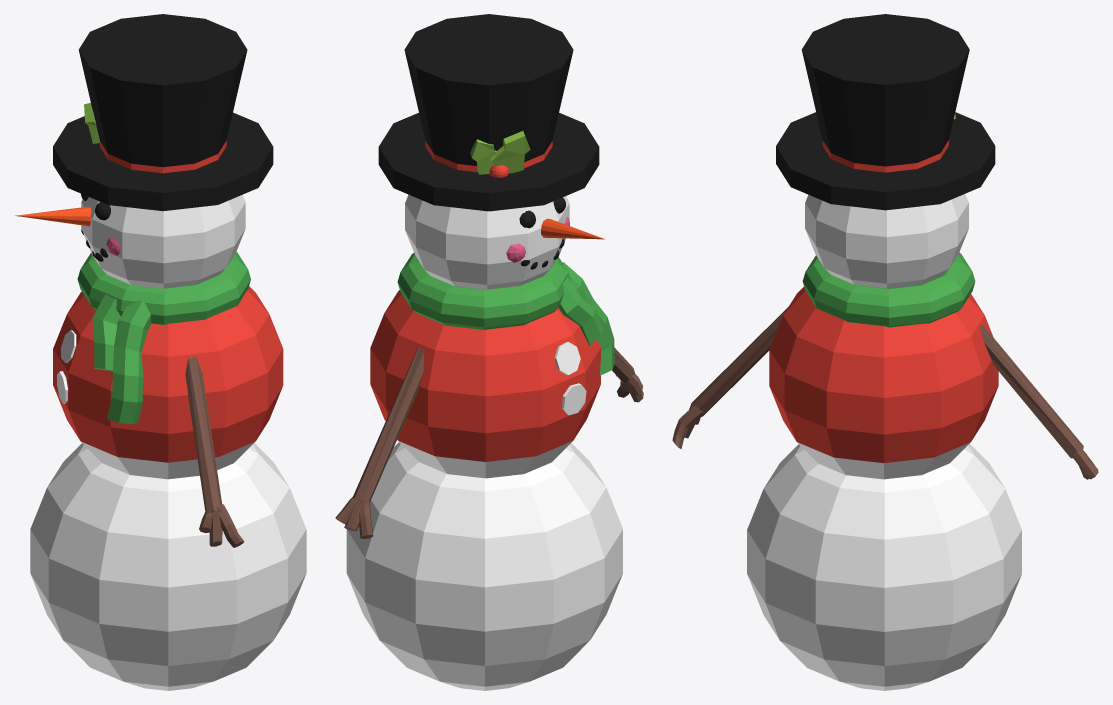
The model's file is snowMan.fbx.
The picture shows the model from 3 angles, left to right: view 1: azimuth 30°, elevation 25°; view 2: azimuth 150°, elevation 25°; view 3: azimuth 270°, elevation 25°; orthographic projection.
Visible parts, largest first — view 1: mesh_1522281990, mesh_396693100, mesh_24528579, mesh_782497130, mesh_818336702, mesh_708977906, group_927813173, group_148953620, group_53042870, mesh_1128189315, group_1901817716; view 2: mesh_1522281990, mesh_396693100, mesh_24528579, mesh_782497130, mesh_818336702, mesh_708977906, group_62286769, group_53042870, group_927813173, group_603932705, mesh_1128189315, group_1167757391 (+2 smaller); view 3: mesh_1522281990, mesh_396693100, mesh_24528579, mesh_818336702, mesh_782497130, mesh_708977906, group_62286769, group_148953620.
Boxes of the visible parts, x1,y1,x2,y2 form: mesh_1522281990: (30,443,306,690); mesh_396693100: (53,286,283,479); mesh_24528579: (78,14,247,173); mesh_782497130: (53,112,273,211); mesh_818336702: (81,195,245,288); mesh_708977906: (77,251,250,324); group_927813173: (107,300,151,424); group_148953620: (185,356,222,512); group_53042870: (92,294,120,371); mesh_1128189315: (15,206,91,226); group_1901817716: (219,504,244,547); mesh_1522281990: (346,442,622,690); mesh_396693100: (370,290,600,478); mesh_24528579: (404,14,573,172); mesh_782497130: (378,112,599,211); mesh_818336702: (405,194,569,289); mesh_708977906: (397,253,571,329); group_62286769: (353,346,424,503); group_53042870: (558,276,603,345); group_927813173: (562,262,614,375); group_603932705: (490,131,530,173); mesh_1128189315: (541,218,604,239); group_1167757391: (554,342,580,375); mesh_1522281990: (747,443,1021,690); mesh_396693100: (769,287,998,479); mesh_24528579: (801,14,969,172); mesh_818336702: (805,194,968,288); mesh_782497130: (776,112,995,210); mesh_708977906: (802,252,975,327); group_62286769: (980,324,1083,458); group_148953620: (690,307,787,417).
Bounding box in the file's own units: 44.44 × 104 × 64.11.
